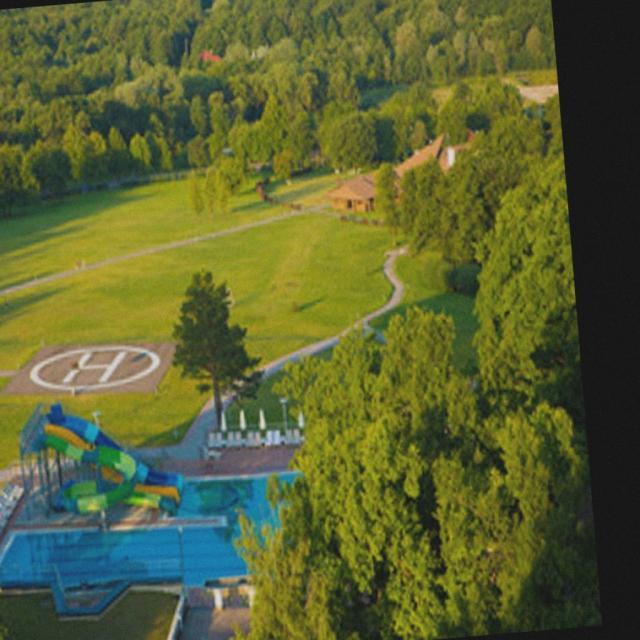helipad: (26, 339, 162, 393)
